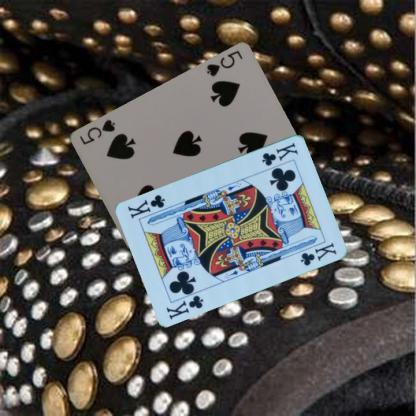5s: (203, 48, 244, 78)
Kc: (164, 292, 205, 321), (259, 140, 300, 167)
